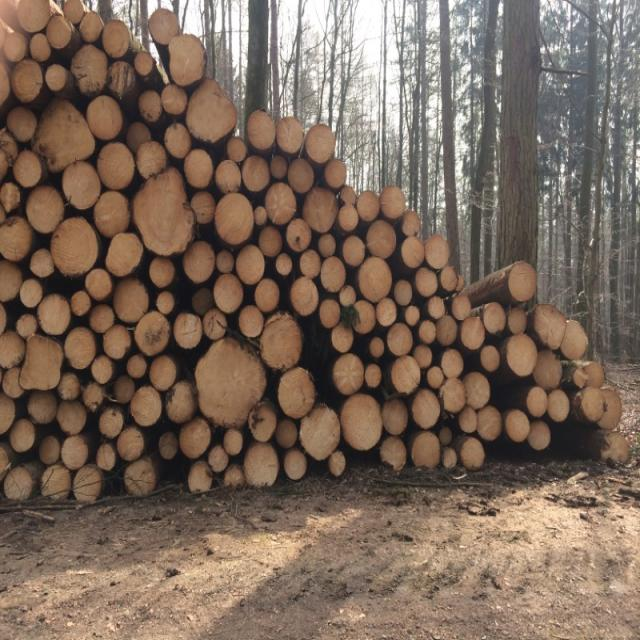wood-log: (194, 338, 266, 430), (133, 167, 195, 256), (37, 102, 95, 174), (186, 78, 239, 142), (51, 218, 100, 278), (20, 332, 65, 392), (260, 313, 304, 372), (340, 392, 383, 451), (213, 192, 254, 246), (300, 404, 340, 459), (277, 366, 316, 418), (24, 185, 65, 234), (170, 36, 208, 88), (62, 160, 101, 210), (73, 44, 111, 94), (105, 231, 145, 277), (96, 143, 135, 190), (93, 190, 131, 237), (113, 279, 151, 325), (134, 309, 170, 356), (243, 442, 280, 487), (87, 94, 124, 139), (304, 187, 339, 234), (0, 215, 34, 262), (357, 258, 392, 302), (11, 57, 44, 103), (264, 181, 298, 224), (332, 352, 366, 394), (130, 384, 164, 426), (66, 327, 99, 370), (506, 334, 540, 375), (39, 294, 73, 335), (125, 455, 158, 496), (168, 379, 198, 424), (184, 242, 216, 284), (180, 416, 212, 458), (246, 110, 277, 153), (75, 462, 106, 504), (306, 124, 338, 164), (560, 319, 589, 362), (235, 245, 266, 285), (149, 8, 182, 45), (14, 149, 45, 188), (366, 220, 397, 259), (508, 262, 538, 302), (411, 389, 441, 429), (215, 273, 245, 313), (25, 389, 59, 424), (7, 105, 38, 143), (182, 150, 212, 189), (533, 351, 562, 391), (289, 276, 318, 316), (56, 400, 88, 436), (250, 401, 278, 442), (6, 464, 37, 501), (392, 355, 422, 393), (136, 140, 166, 178), (163, 123, 193, 160), (411, 432, 441, 468), (43, 464, 73, 500), (173, 311, 202, 348), (102, 20, 130, 58), (382, 397, 409, 436), (117, 426, 146, 462), (380, 184, 409, 220), (277, 118, 306, 154), (242, 156, 271, 192), (288, 158, 316, 195), (380, 437, 409, 472), (0, 329, 26, 368), (104, 324, 132, 360), (149, 356, 177, 392), (0, 260, 23, 302), (322, 257, 348, 294), (441, 376, 467, 413), (580, 385, 606, 422), (10, 420, 38, 454), (47, 16, 75, 50), (258, 225, 286, 259), (62, 436, 89, 471), (466, 373, 492, 409), (460, 315, 486, 351), (288, 217, 313, 254), (85, 268, 113, 301), (216, 160, 244, 193), (0, 27, 28, 60), (238, 305, 265, 339), (254, 277, 280, 312), (386, 321, 412, 356), (148, 257, 176, 289), (424, 234, 450, 268), (202, 308, 228, 342), (478, 406, 502, 442), (506, 408, 531, 442), (90, 302, 117, 333), (29, 249, 56, 280), (322, 157, 348, 189), (437, 314, 461, 348), (83, 380, 108, 412), (162, 86, 187, 118), (331, 323, 356, 355), (80, 12, 105, 44), (190, 459, 215, 491), (100, 406, 124, 439), (283, 448, 307, 481), (402, 235, 426, 268), (110, 374, 136, 404), (341, 235, 366, 266), (460, 438, 484, 470), (548, 388, 570, 422), (0, 181, 22, 215), (276, 420, 300, 451), (482, 302, 506, 333), (527, 419, 550, 451), (140, 89, 162, 122), (356, 191, 381, 220), (21, 278, 45, 308), (414, 266, 438, 296), (128, 121, 154, 148), (92, 354, 116, 383), (299, 248, 323, 277), (38, 436, 61, 466), (207, 443, 230, 473), (192, 286, 215, 316), (0, 393, 16, 436), (318, 299, 340, 330), (58, 372, 82, 400), (441, 264, 462, 296), (377, 297, 399, 327), (339, 203, 361, 233), (527, 386, 547, 418), (442, 347, 464, 376), (47, 63, 69, 91), (31, 33, 53, 61), (508, 306, 530, 334), (1, 369, 22, 398), (127, 351, 149, 378), (450, 292, 472, 319), (402, 208, 424, 235), (480, 343, 500, 372), (225, 428, 245, 457), (97, 442, 117, 471), (160, 432, 180, 461), (228, 135, 250, 161), (392, 279, 413, 306), (458, 405, 477, 434), (70, 290, 92, 315), (413, 344, 434, 370), (18, 311, 39, 337), (133, 53, 154, 78), (0, 54, 10, 106), (0, 440, 13, 479), (215, 250, 234, 276), (339, 284, 358, 308), (271, 155, 289, 180), (426, 296, 445, 319), (426, 366, 444, 390), (419, 318, 436, 343), (331, 451, 348, 476), (317, 234, 336, 256), (276, 252, 293, 276), (366, 362, 381, 387), (370, 336, 385, 360), (405, 306, 422, 326), (443, 447, 458, 469), (0, 303, 8, 333)
